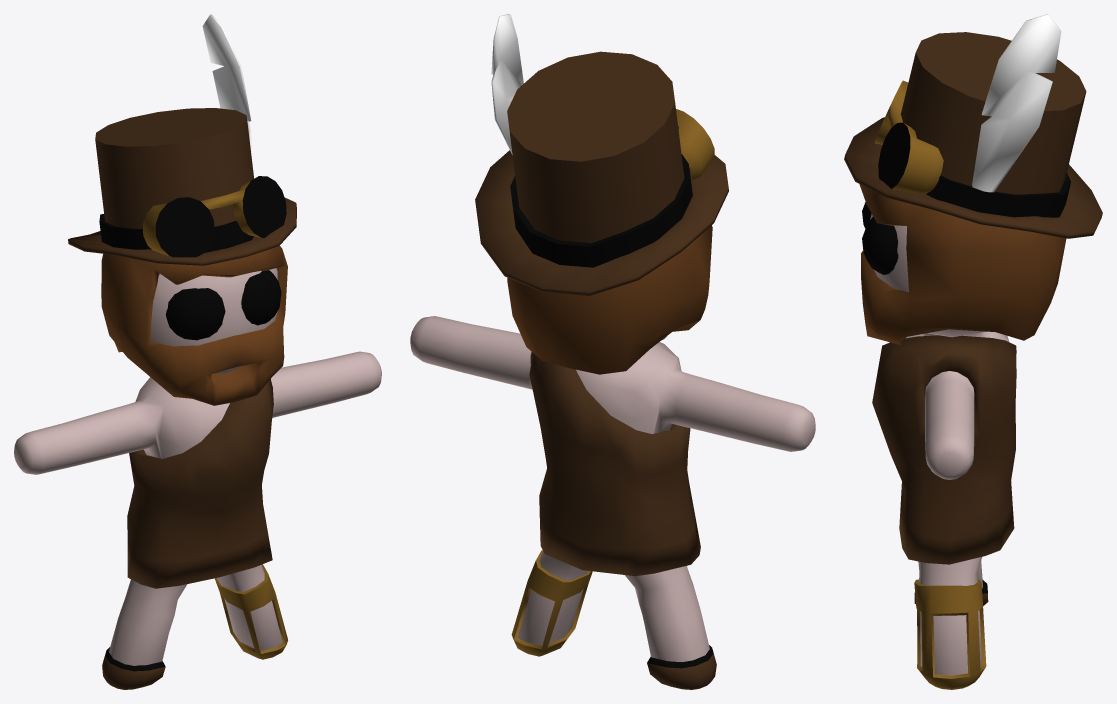
Rendered from ChibiHephaestus.fbx.
3 renders of one model, left to right at view 1: azimuth 30°, elevation 25°; view 2: azimuth 150°, elevation 25°; view 3: azimuth 270°, elevation 25°, orthographic. The views are drawn at different scales.
Visible parts, largest first — view 1: Chiibi; view 2: Chiibi; view 3: Chiibi.
Part boxes in pixels (left/top/right/bottom): Chiibi: left=14, top=14, right=381, bottom=689; Chiibi: left=410, top=14, right=815, bottom=689; Chiibi: left=844, top=14, right=1102, bottom=689.
Size of the model in its own units: 2.7 by 4.39 by 1.55.
1 material, 1 textured.
